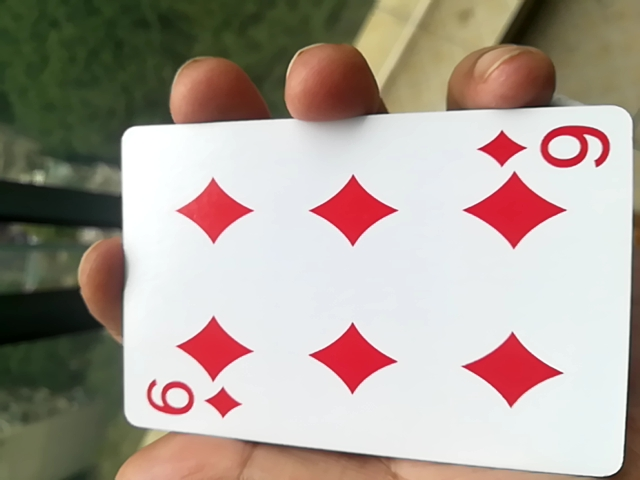fk 6: (106, 121, 628, 477)
